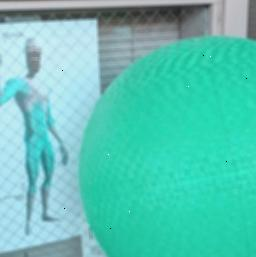algae: (86, 35, 256, 257)
